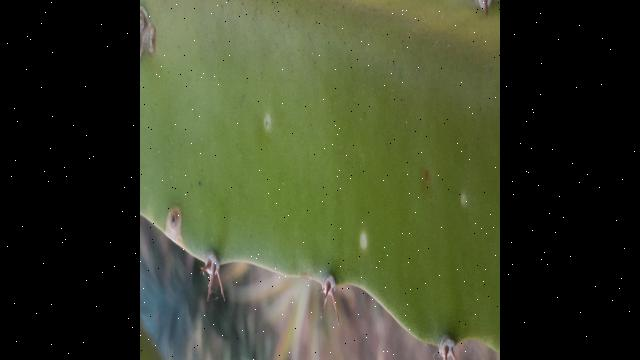stemcanker: (455, 185, 472, 212), (359, 229, 374, 257), (262, 111, 277, 139)
